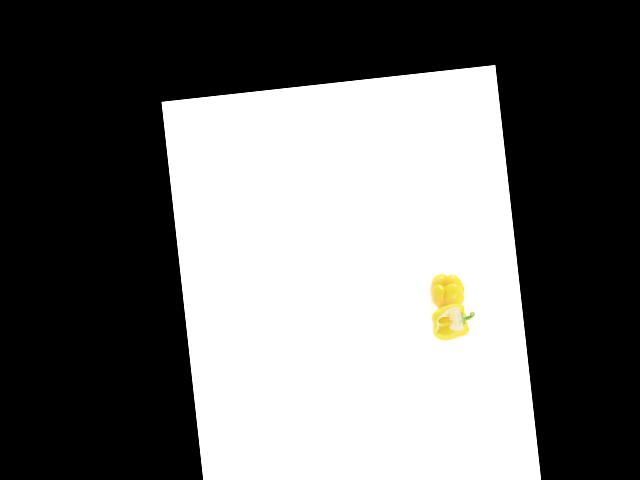bell_pepper: (421, 295, 478, 344)
